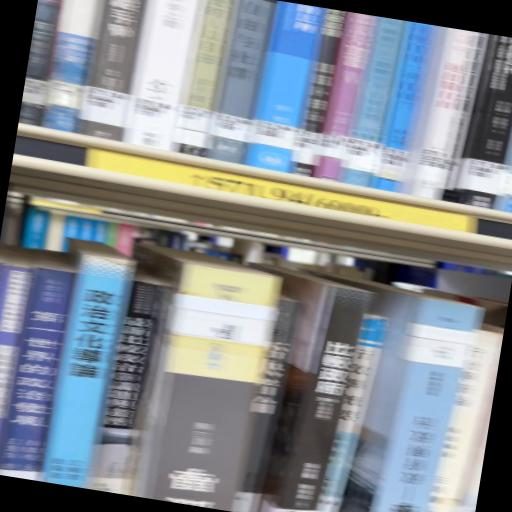reverse: (133, 254, 280, 511), (339, 281, 482, 512)
